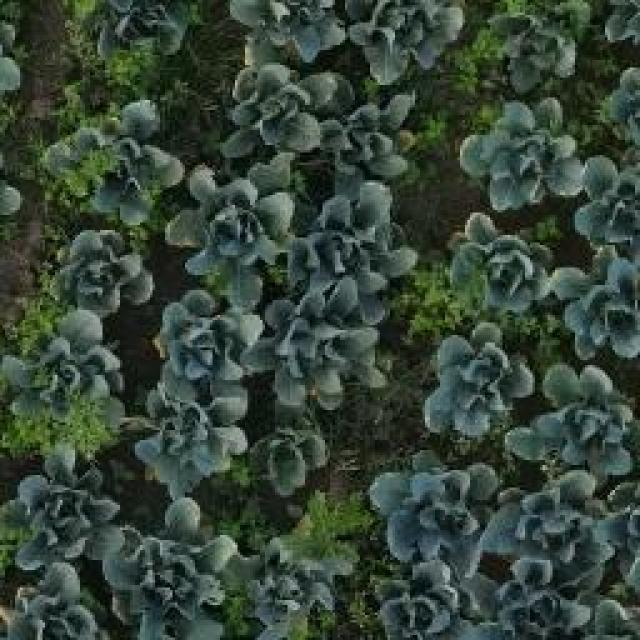cabbage: (114, 514, 232, 628), (472, 98, 582, 215), (267, 297, 385, 406), (174, 172, 290, 279), (529, 366, 640, 476), (19, 322, 122, 438), (492, 475, 614, 572), (236, 523, 342, 634), (152, 288, 258, 398), (428, 331, 534, 438), (296, 184, 398, 295), (134, 395, 248, 493), (550, 238, 640, 358), (58, 113, 169, 210), (225, 67, 344, 156), (11, 464, 118, 560), (455, 214, 554, 314), (480, 558, 593, 640), (375, 452, 474, 545), (345, 0, 457, 80), (49, 227, 147, 311), (0, 562, 108, 638), (371, 566, 481, 640), (490, 0, 584, 82), (337, 91, 420, 178), (92, 0, 192, 66), (256, 412, 334, 496), (237, 0, 342, 62), (577, 165, 640, 240)
